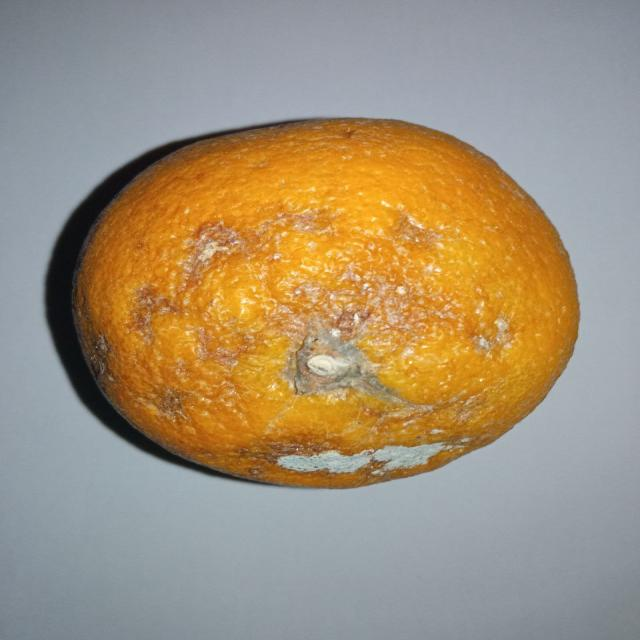rotten_orange: (73, 118, 579, 488)
